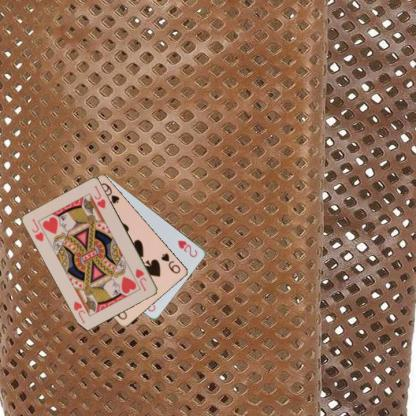2h: (175, 237, 199, 259)
9s: (158, 250, 182, 275)
Jh: (30, 216, 45, 243), (133, 266, 148, 292)
